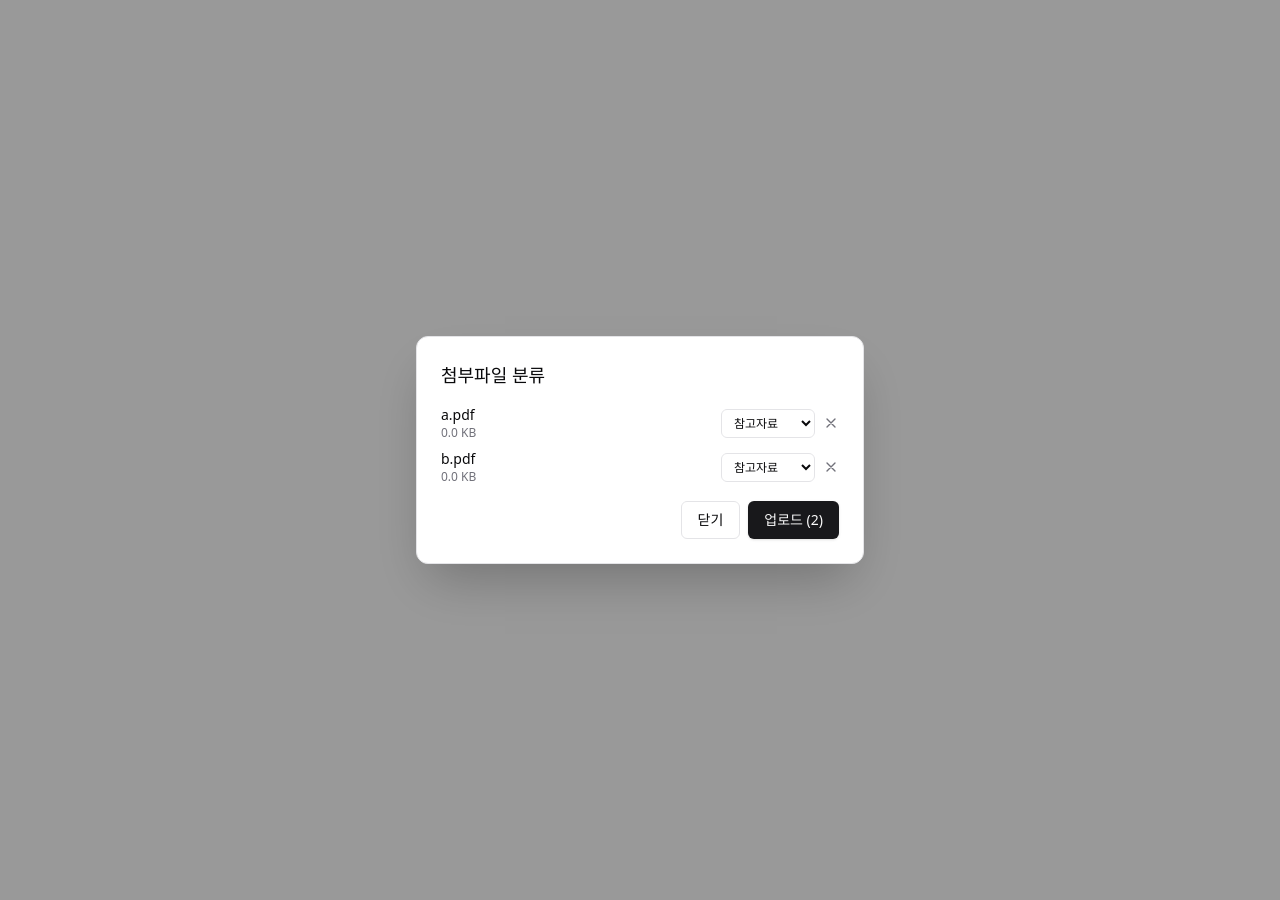
Test case: AttachmentTriageDialog › 제거 버튼으로 파일을 목록에서 뺄 수 있다
Click the button named "a.pdf 제거" at (831, 423), box [823, 415, 839, 431]
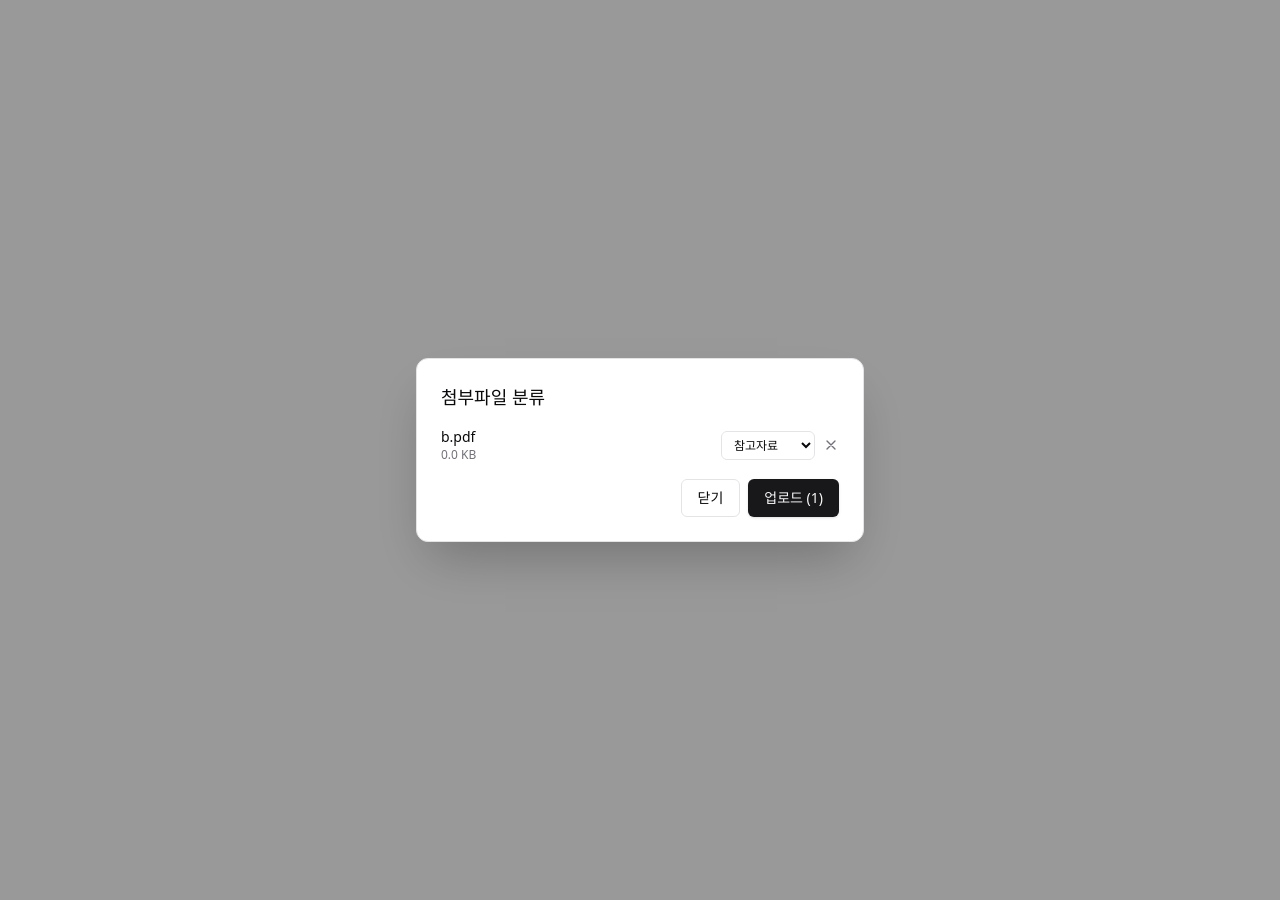
Expected: the text "b.pdf" is shown, [441, 427, 475, 446]
Expected: the text "a.pdf" is gone
